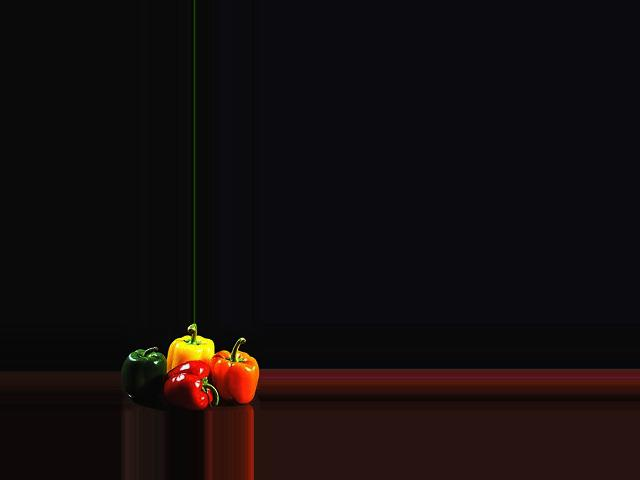bell_pepper: (209, 343, 259, 412)
